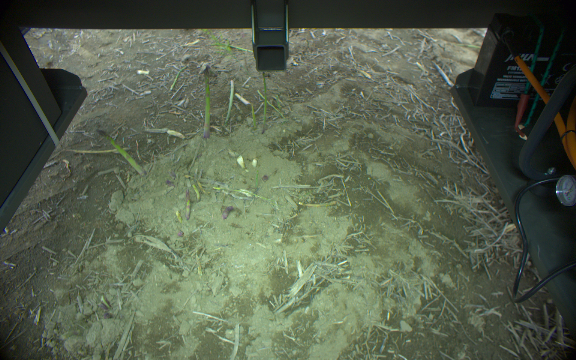aspa: (96, 128, 144, 176), (202, 64, 212, 139), (260, 70, 269, 133), (223, 79, 235, 125), (171, 64, 187, 92), (189, 181, 200, 201), (184, 188, 191, 219), (250, 102, 257, 129)
